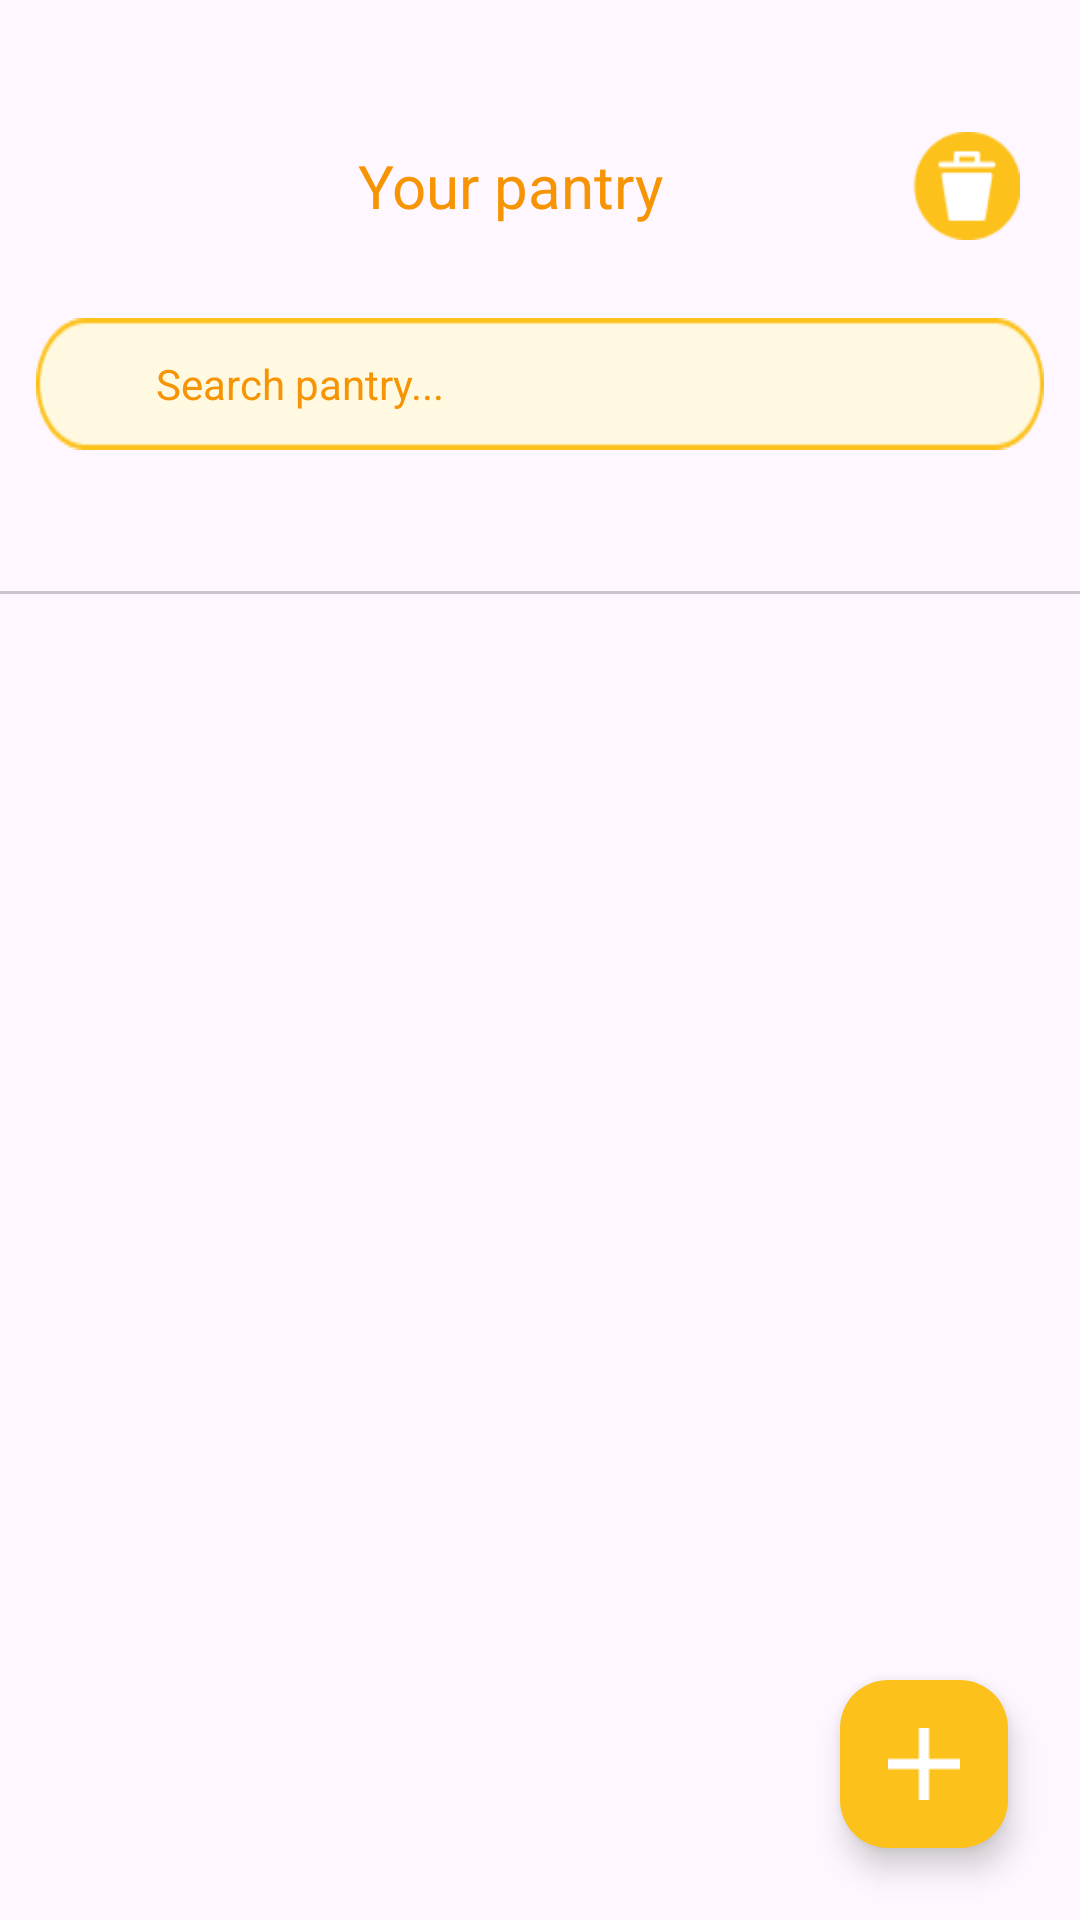

Icons on this 1080×1920 Android screen, each with the point to tap as [x,y]:
add: [924,1764]
waste management: [966,186]
